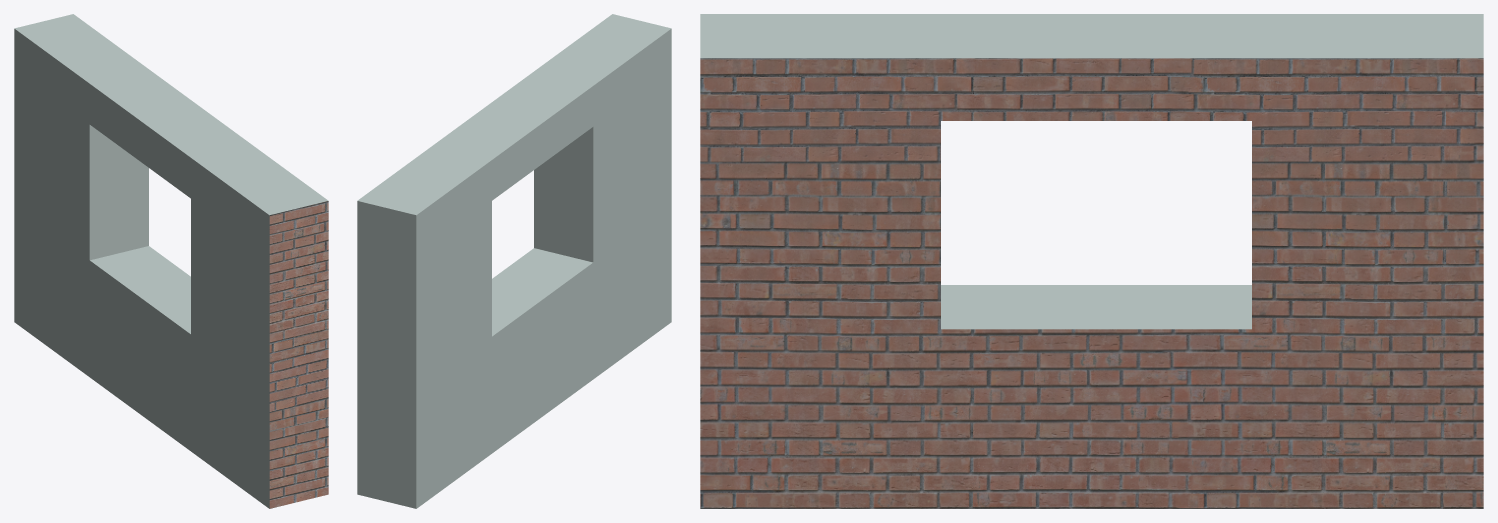
The model's file is PareteCucinaInizio.dae.
The picture shows the model from 3 angles, left to right: view 1: azimuth 30°, elevation 25°; view 2: azimuth 150°, elevation 25°; view 3: azimuth 270°, elevation 25°; orthographic projection. The views are drawn at different scales.
Visible parts, largest first — view 1: PareteSinistra_001_001; view 2: PareteSinistra_001_001; view 3: PareteSinistra_001_001.
Part boxes in pixels (<box>): PareteSinistra_001_001: <box>14,14,328,508</box>; PareteSinistra_001_001: <box>357,14,671,508</box>; PareteSinistra_001_001: <box>700,14,1483,508</box>.
Size of the model in its own units: 0.4852 by 3.62 by 2.3.
